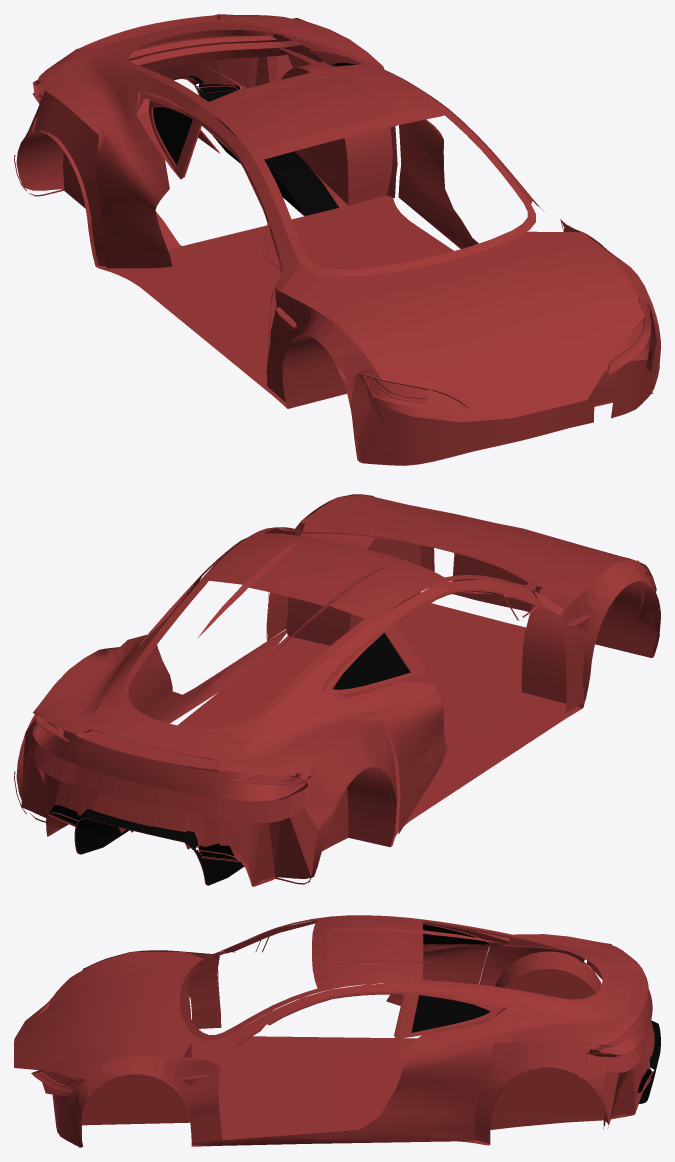
The model's file is teslaLod_base.fbx.
3 views of the same model, one above another, from view 1: azimuth 30°, elevation 25°; view 2: azimuth 150°, elevation 25°; view 3: azimuth 270°, elevation 25° (orthographic). The views are drawn at different scales.
Visible parts, largest first — view 1: polySurface174; view 2: polySurface174; view 3: polySurface174.
Part boxes in pixels (x1,y1,x2,y2): polySurface174: (14,14,660,465); polySurface174: (14,494,660,886); polySurface174: (14,915,660,1147).
Bounding box in the file's own units: 193 × 114 × 450.
